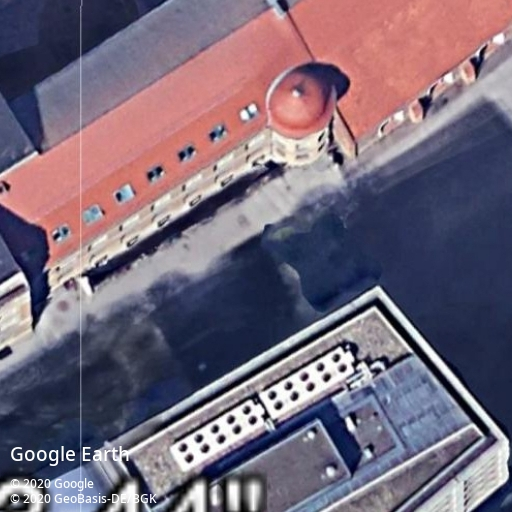Chiller: (169, 397, 266, 472), (258, 345, 355, 419)
